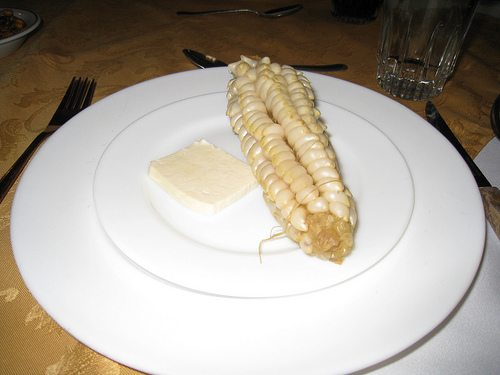corn: (227, 54, 360, 264)
